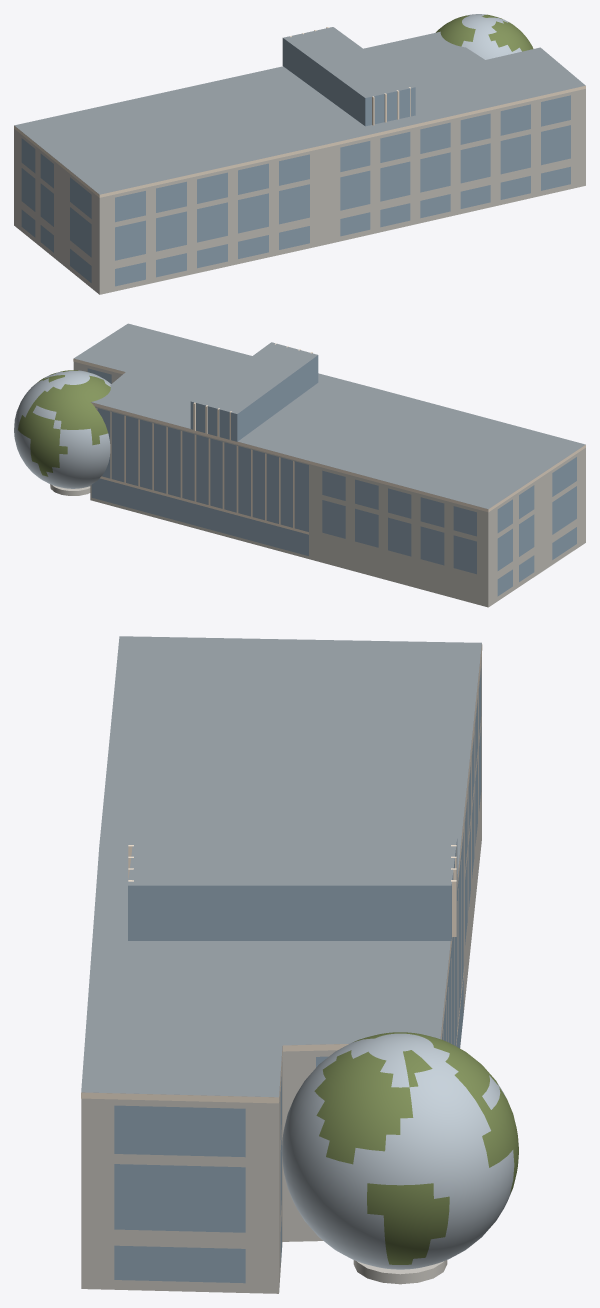
File: ral-nature-research-center.glb
3 renders of one model, top to bottom at view 1: azimuth 30°, elevation 25°; view 2: azimuth 150°, elevation 25°; view 3: azimuth 270°, elevation 25°, orthographic. The views are drawn at different scales.
Visible parts, largest first — view 1: Nature Research Center; view 2: Nature Research Center; view 3: Nature Research Center.
Part boxes in pixels (x1,y1,x2,y2): Nature Research Center: [14, 14, 585, 294]; Nature Research Center: [14, 323, 585, 607]; Nature Research Center: [81, 636, 518, 1293].
Bounding box in the file's own units: 103 × 25 × 39.4.
